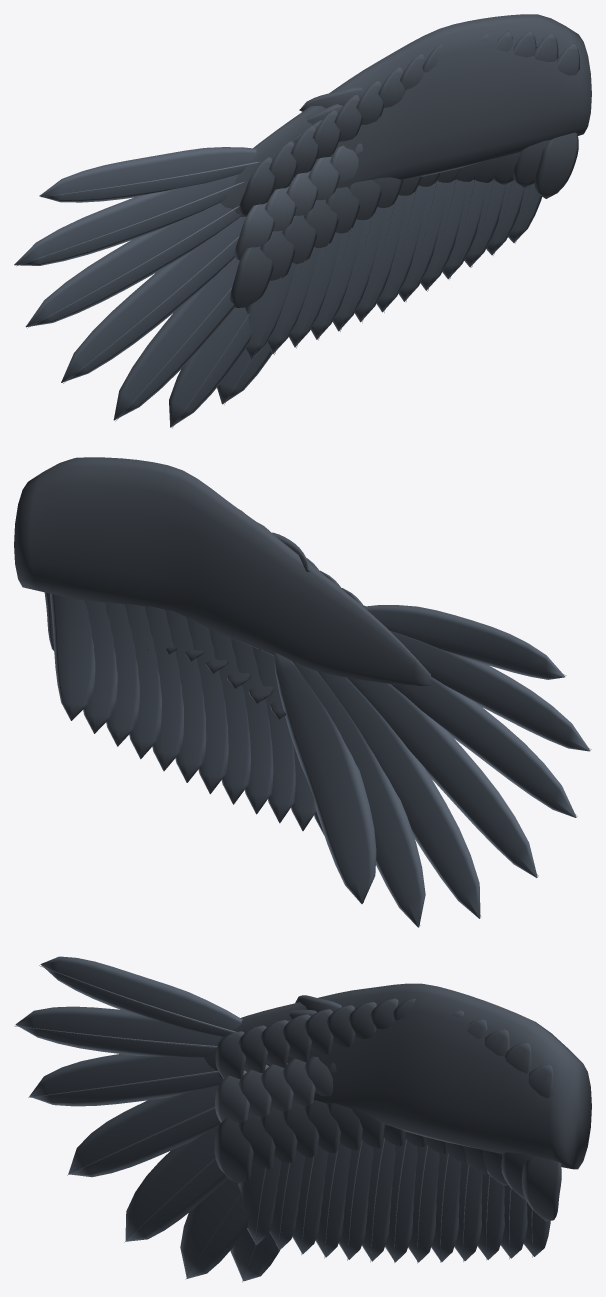
File: left-wing.glb
The picture shows the model from 3 angles, top to bottom: view 1: azimuth 30°, elevation 25°; view 2: azimuth 150°, elevation 25°; view 3: azimuth 330°, elevation 25°; orthographic projection. The views are drawn at different scales.
Parts seen in each view (by area): view 1: left-wing-1, left-wing-0, left-wing-2, left-wing-6; view 2: left-wing-1, left-wing-0; view 3: left-wing-1, left-wing-0, left-wing-2, left-wing-6.
Part boxes in pixels (left/top/right/bottom): left-wing-1: left=14, top=147, right=541, bottom=427; left-wing-0: left=220, top=14, right=591, bottom=307; left-wing-2: left=234, top=143, right=362, bottom=260; left-wing-6: left=16, top=162, right=531, bottom=428; left-wing-1: left=50, top=593, right=590, bottom=927; left-wing-0: left=14, top=457, right=431, bottom=719; left-wing-1: left=15, top=956, right=550, bottom=1281; left-wing-0: left=204, top=983, right=591, bottom=1221; left-wing-2: left=215, top=1056, right=336, bottom=1122; left-wing-6: left=14, top=965, right=532, bottom=1282.
Size of the model in its own units: 2.53 by 1.57 by 0.2765.
